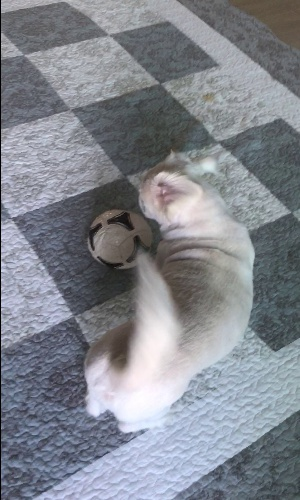ddubi: (78, 144, 256, 438)
